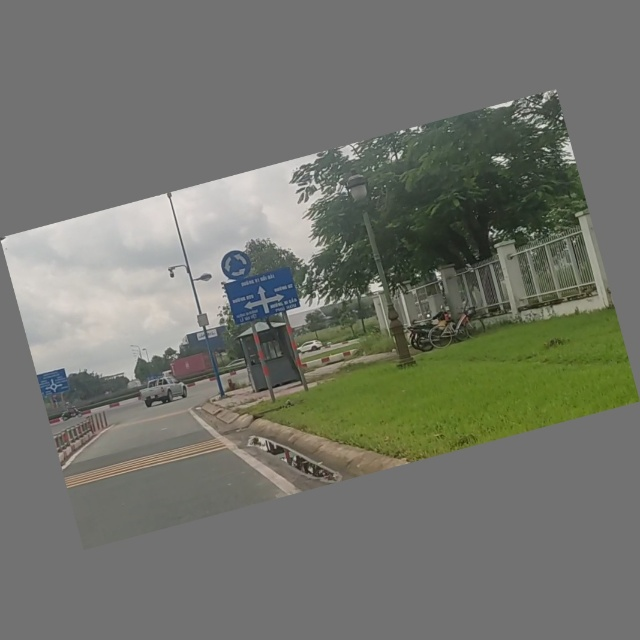R.303: (216, 245, 256, 285)
